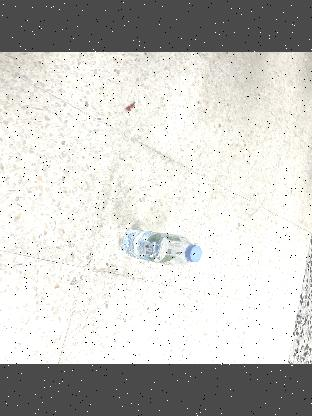Plastic Bottle: (119, 228, 200, 266)
